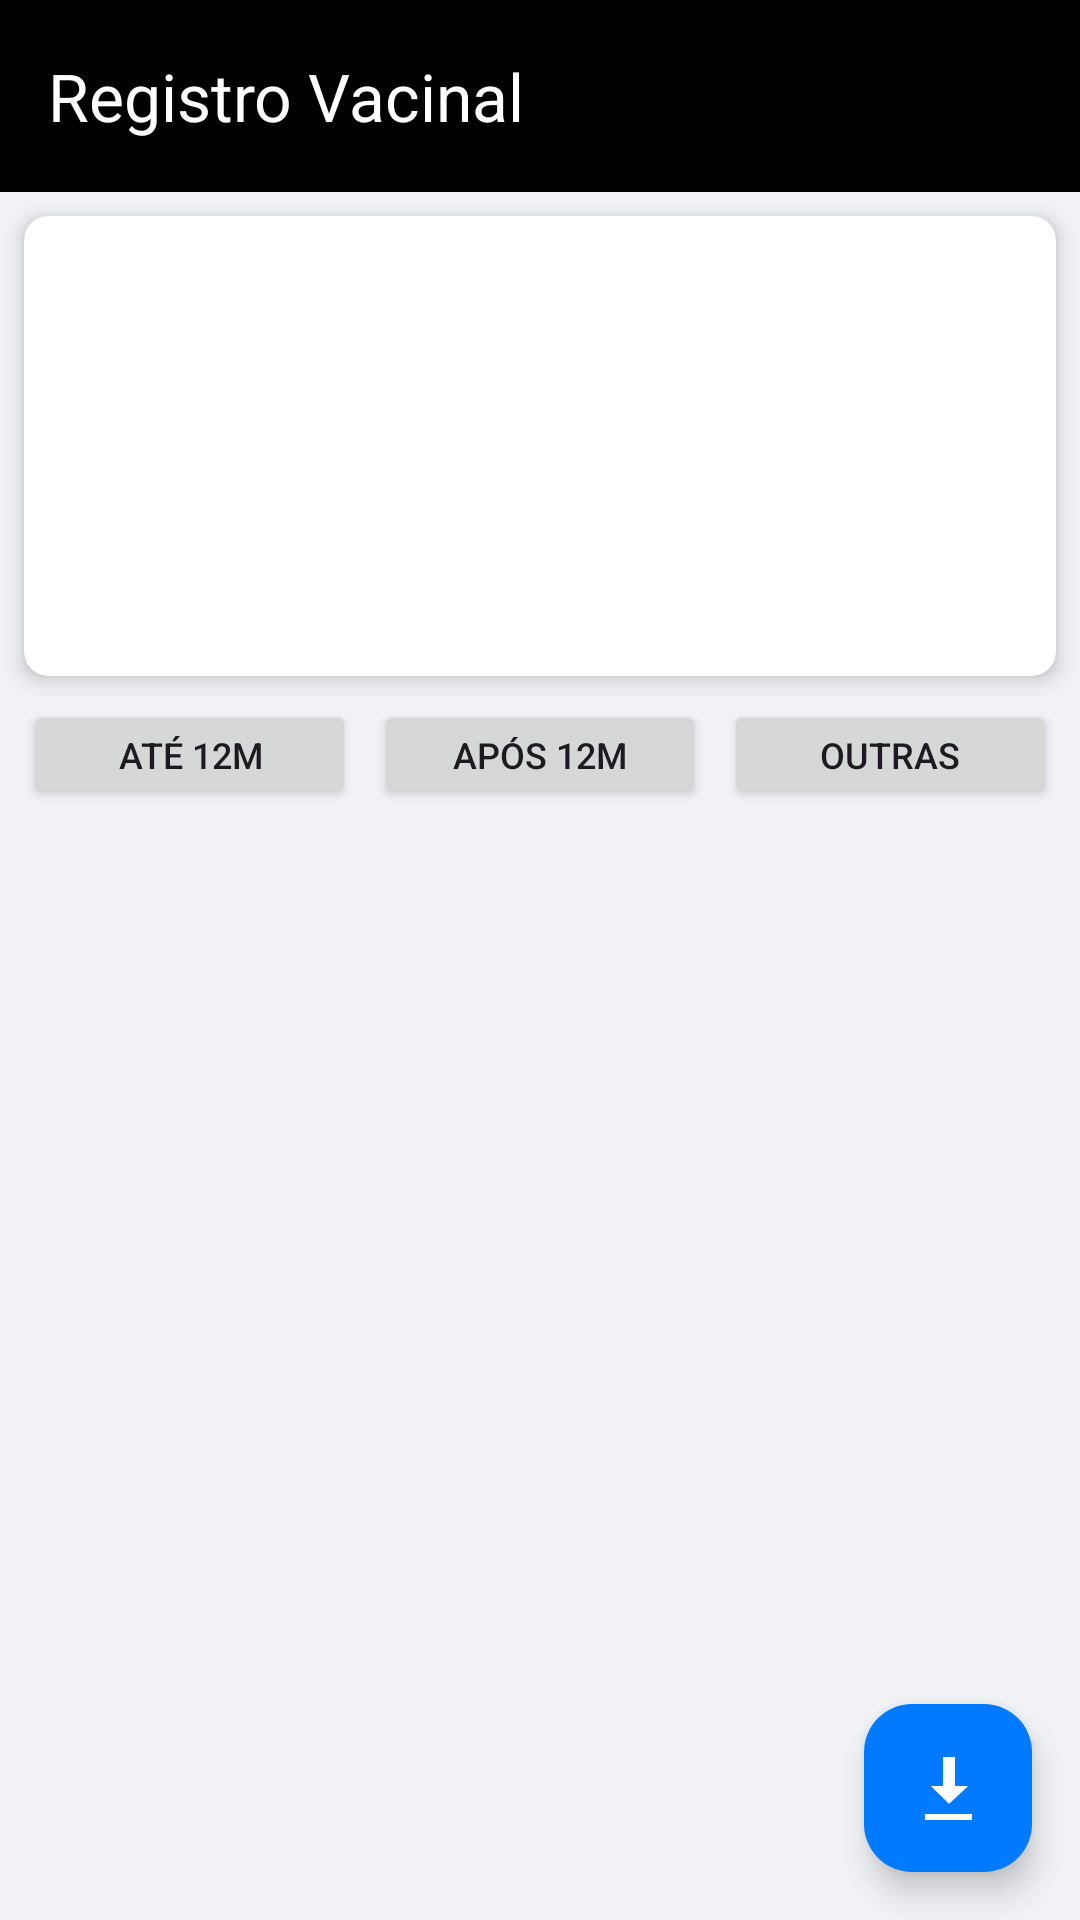

Where to tap for icons on this 1080w x 1920h app screen, as [x,y]:
Exportar Cartão de Vacinas em PDF: [948,1788]
